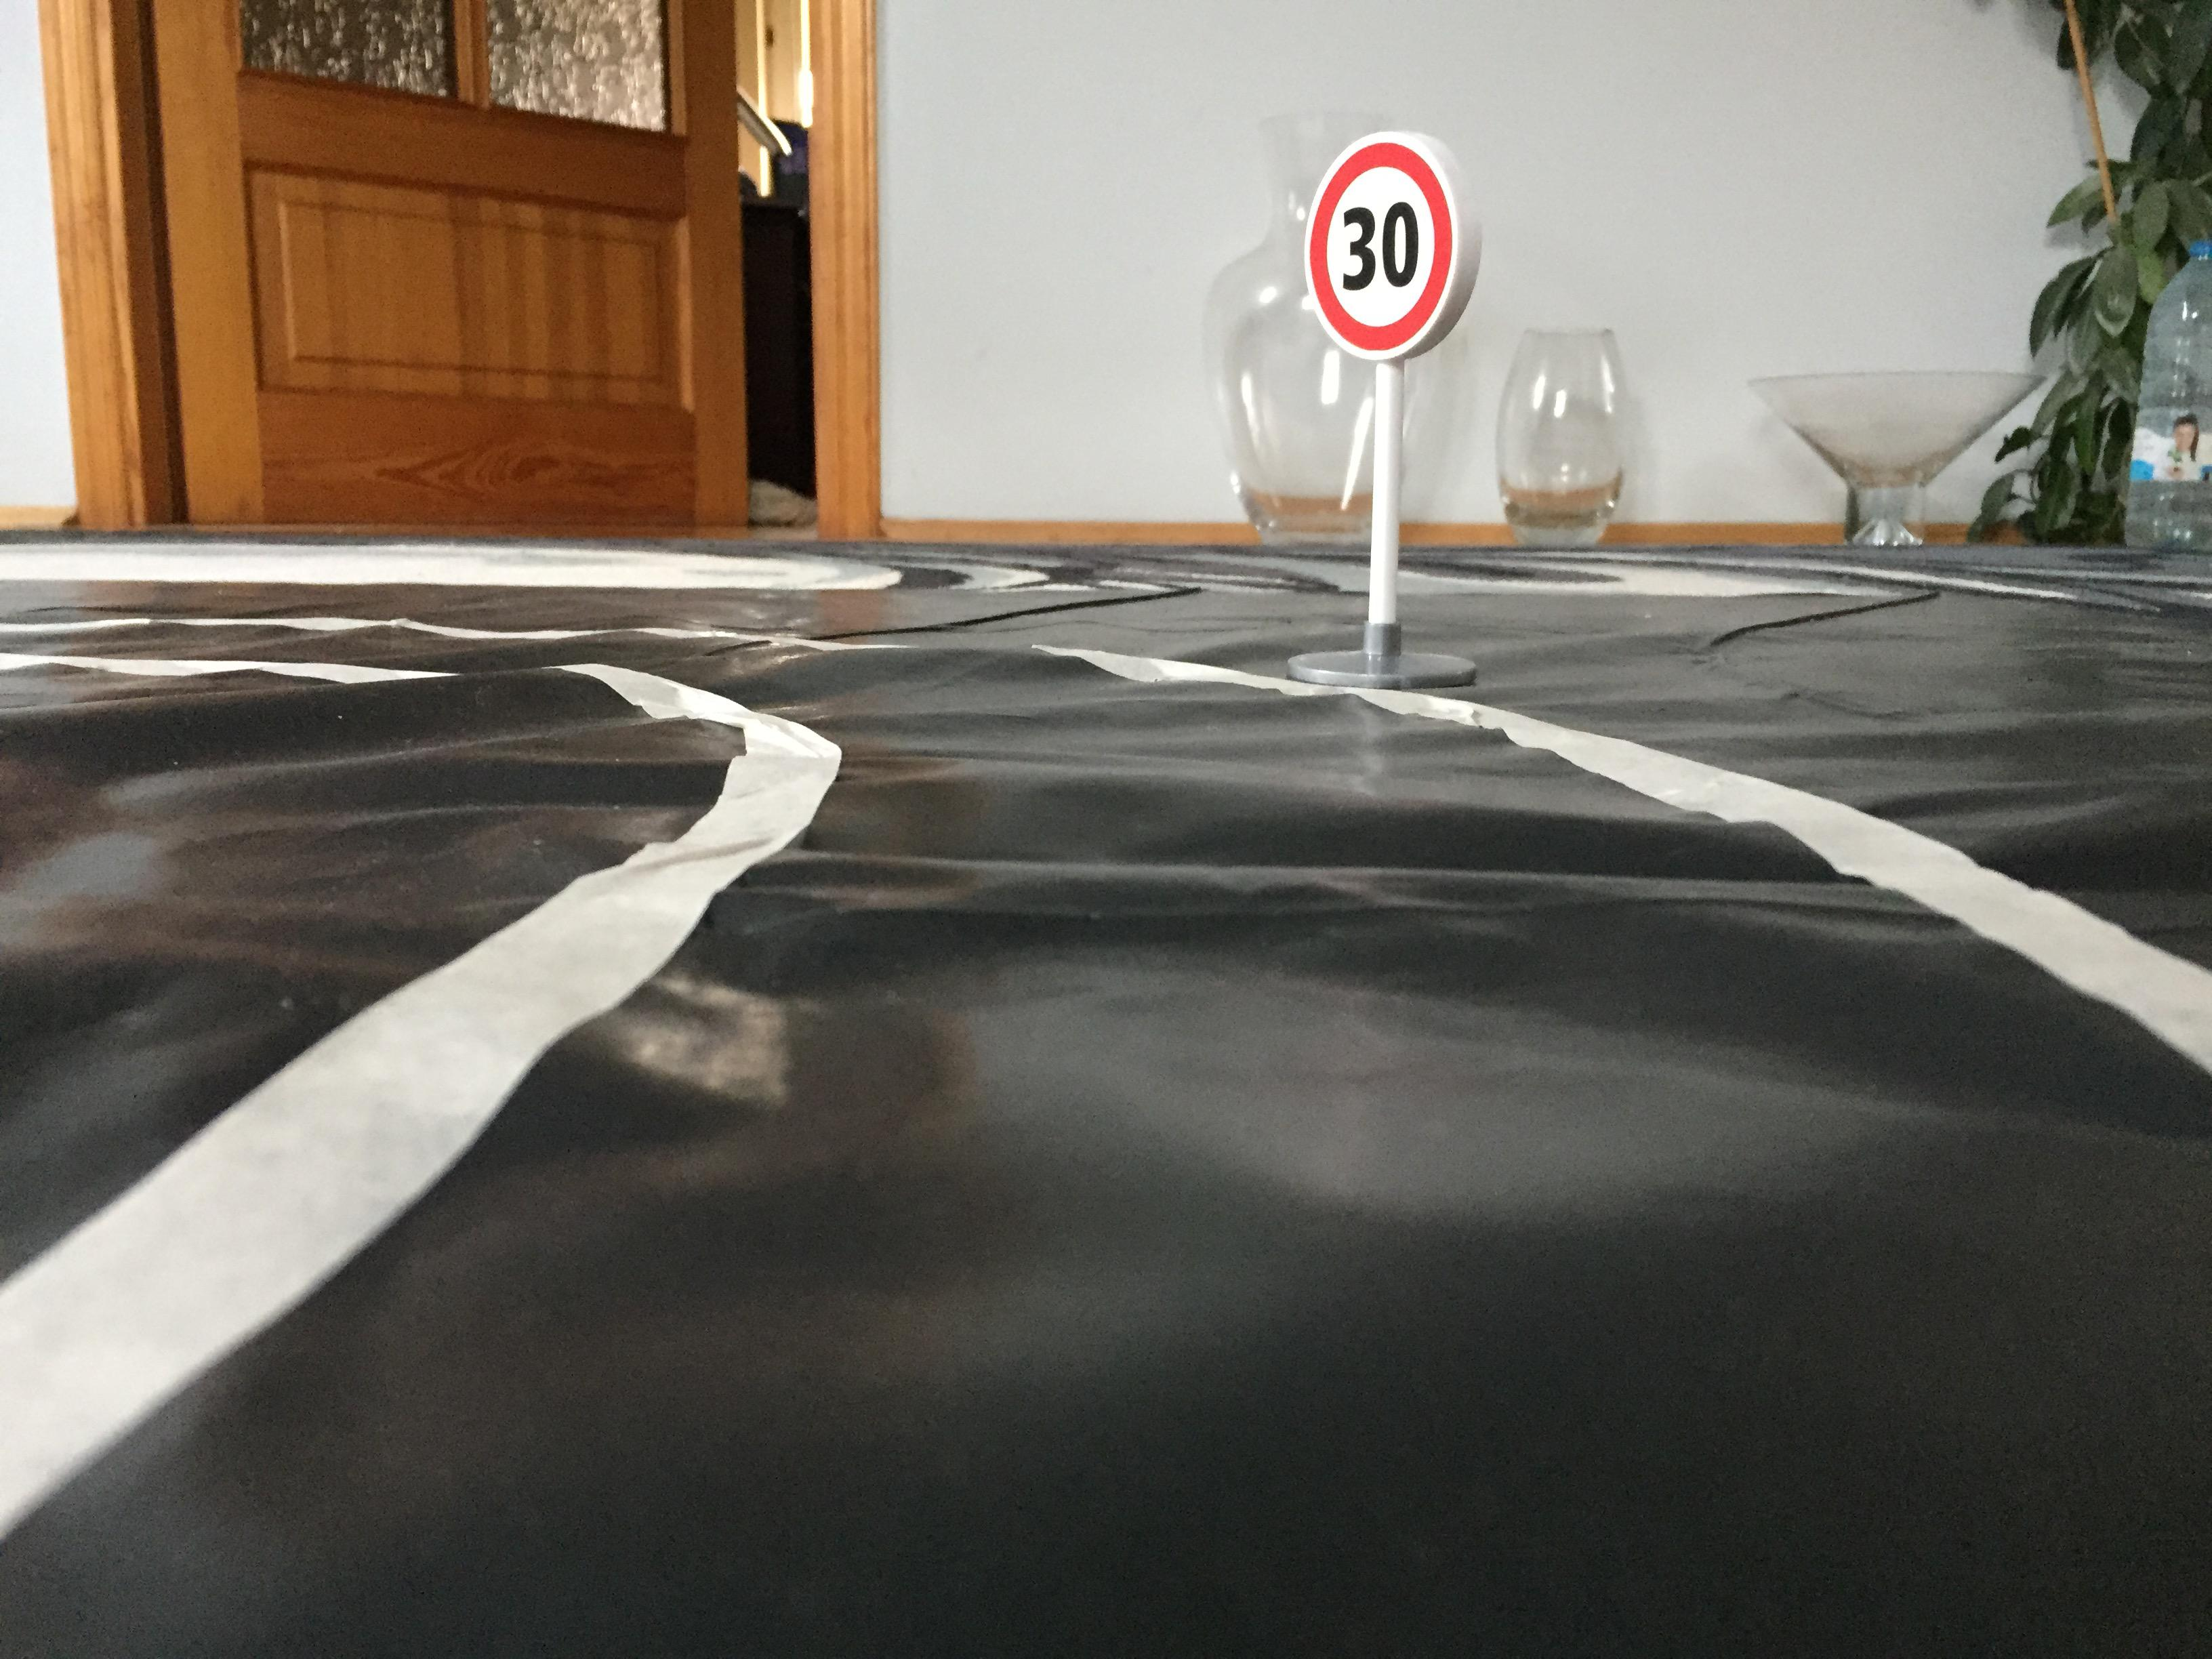speed: (1303, 131, 1487, 366)
